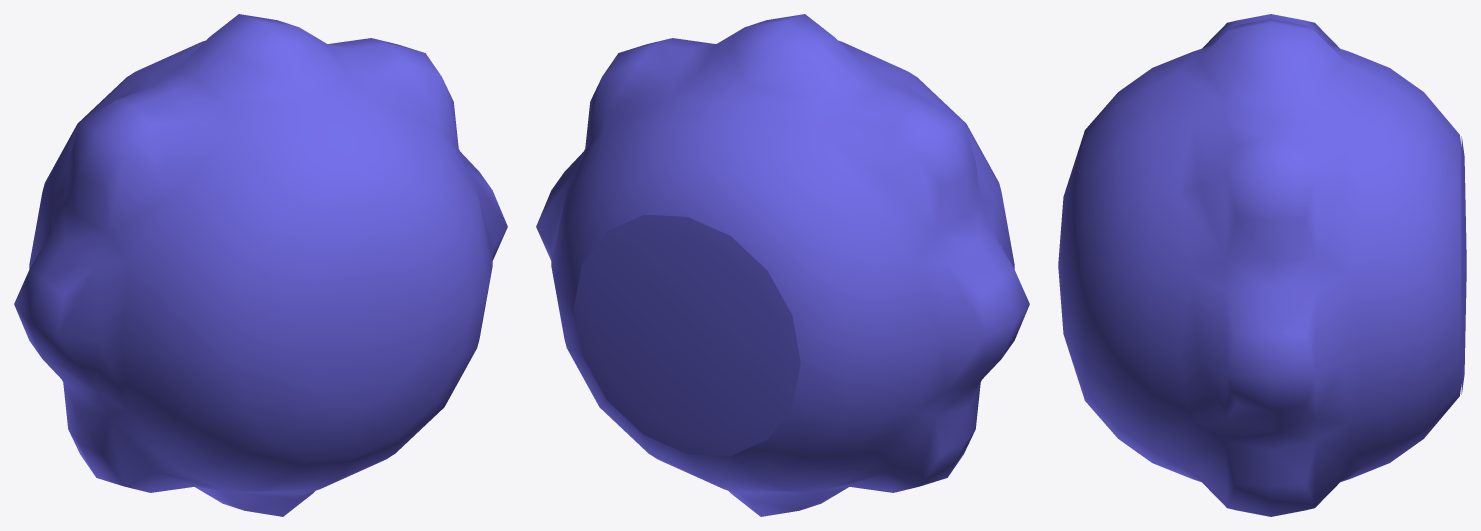
Rendered from MON005_Pewpew.fbx.
3 views of the same model, side by side, from view 1: azimuth 30°, elevation 25°; view 2: azimuth 150°, elevation 25°; view 3: azimuth 270°, elevation 25° (orthographic).
Visible parts, largest first — view 1: obj_MON005_Body; view 2: obj_MON005_Body, obj_MON005_Eye; view 3: obj_MON005_Body, obj_MON005_Eye.
Part boxes in pixels (box(x1,y1,x2,y2)): obj_MON005_Body: box(14, 14, 507, 516); obj_MON005_Body: box(536, 14, 1029, 516); obj_MON005_Eye: box(573, 215, 800, 456); obj_MON005_Body: box(1058, 14, 1461, 516); obj_MON005_Eye: box(1461, 136, 1466, 394).
Size of the model in its own units: 1.16 by 0.8839 by 1.16.
